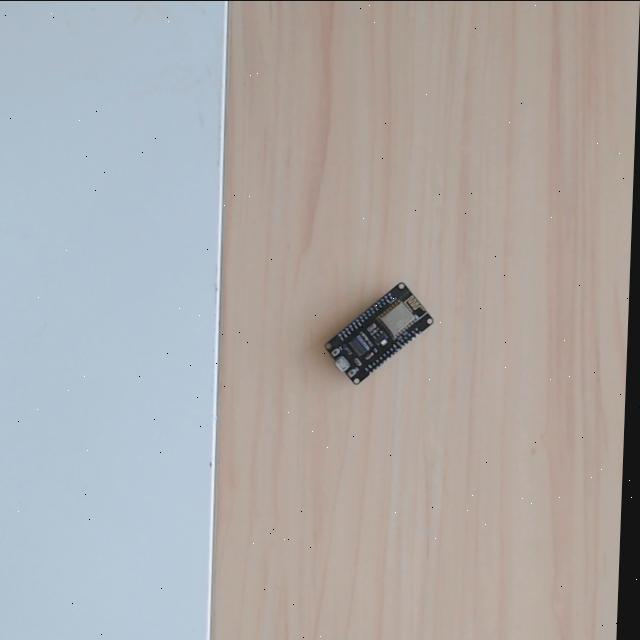ESP8266-NodeMCU: (321, 277, 440, 388)
